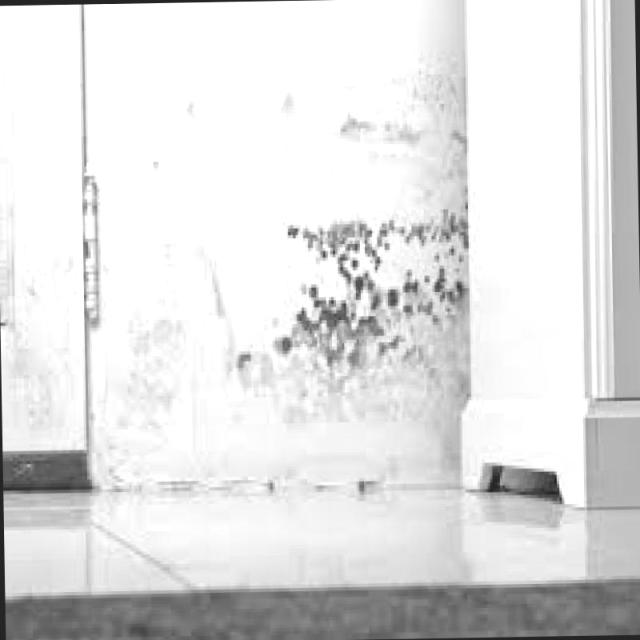stain marks: (123, 71, 503, 502)
